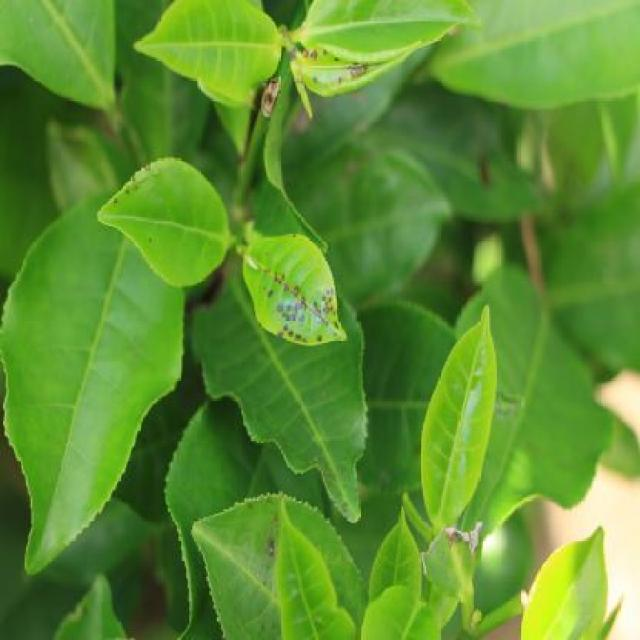Tea Mosquito bug infested leaf: (237, 221, 341, 354), (288, 32, 417, 111)
